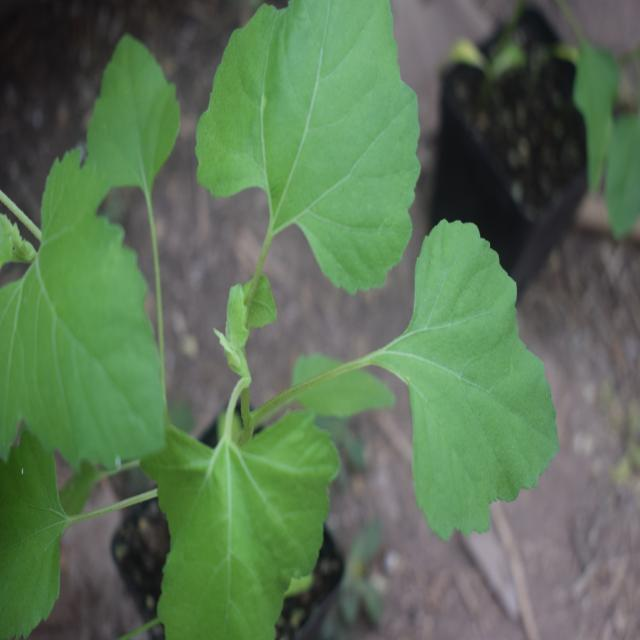cocklebur: (22, 6, 517, 628)
